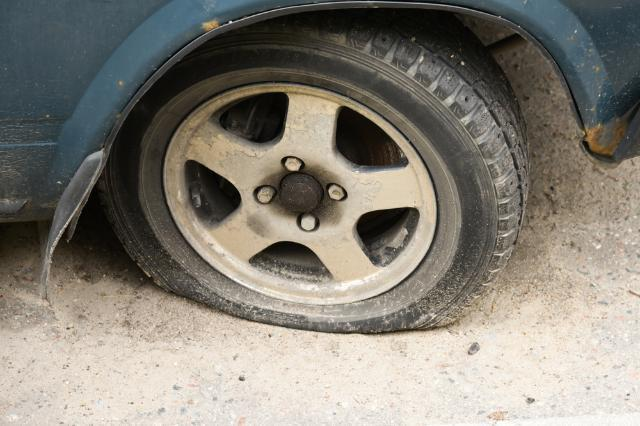tire flat: (97, 8, 528, 336)
